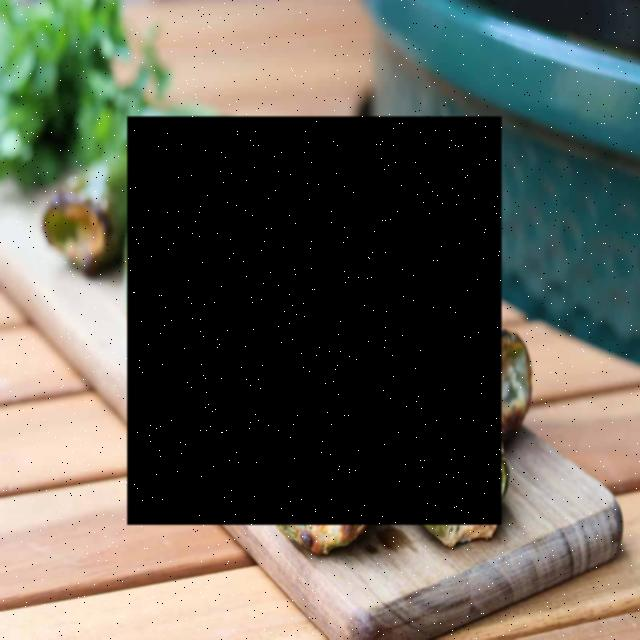Chili_Pepper: (127, 116, 502, 525)
